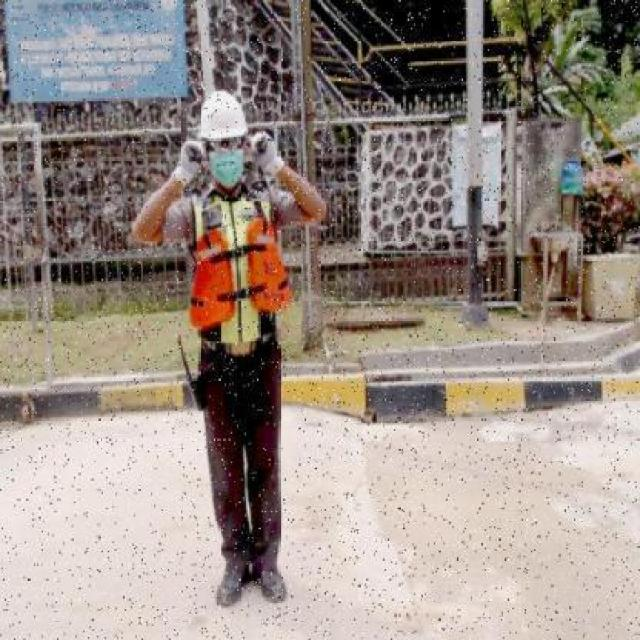Gloves: (172, 131, 208, 184), (248, 128, 286, 177)
Helmet: (194, 90, 252, 142)
Mask: (206, 148, 248, 188)
Protective Glasses: (206, 134, 246, 152)
Vest: (189, 216, 296, 330), (247, 543, 295, 605), (215, 541, 251, 608)
